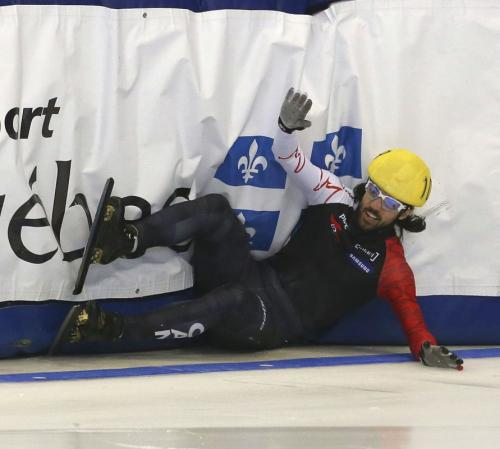fall: (14, 67, 440, 379)
